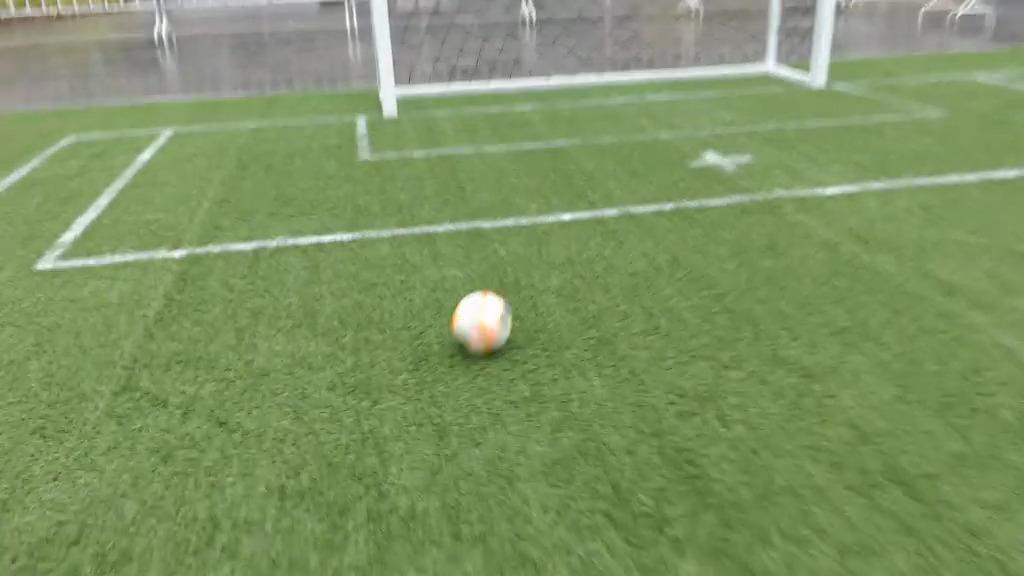ball: (452, 289, 513, 354)
